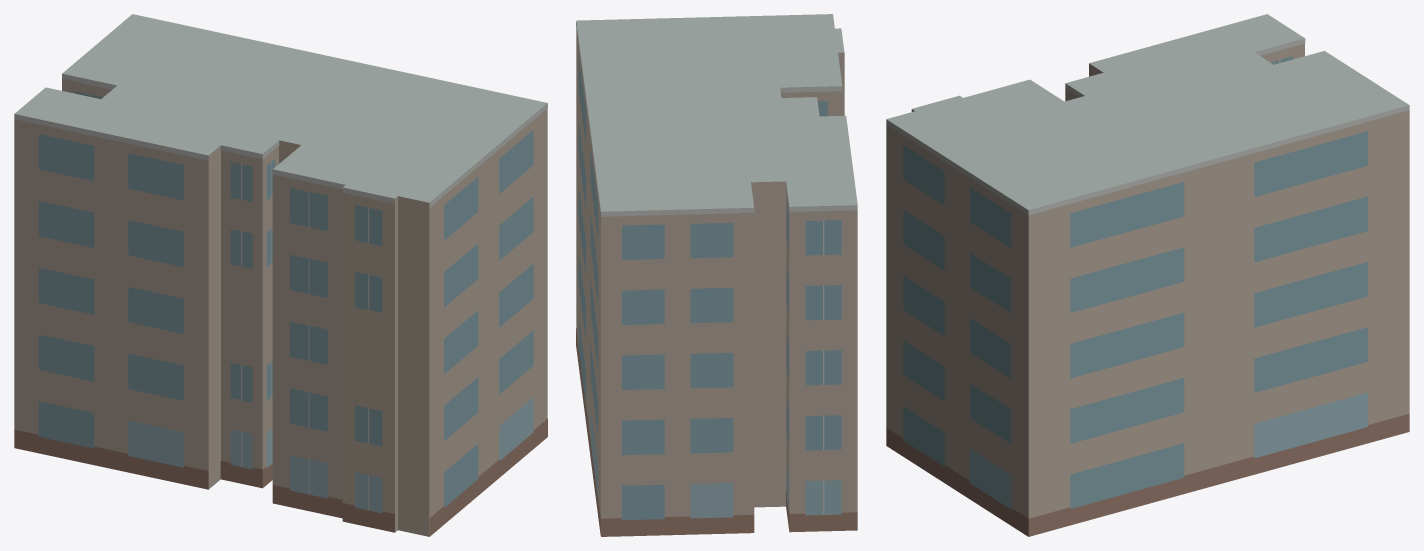
The model's file is survey-upis-32997263.glb.
3 renders of one model, left to right at view 1: azimuth 30°, elevation 25°; view 2: azimuth 150°, elevation 25°; view 3: azimuth 270°, elevation 25°, orthographic. The views are drawn at different scales.
Parts seen in each view (by area): view 1: survey-upis-32997263.tmp; view 2: survey-upis-32997263.tmp; view 3: survey-upis-32997263.tmp.
Part boxes in pixels (x1=…): survey-upis-32997263.tmp: x1=14, y1=14, x2=547, y2=536; survey-upis-32997263.tmp: x1=576, y1=14, x2=857, y2=536; survey-upis-32997263.tmp: x1=886, y1=14, x2=1409, y2=536.
Bounding box in the file's own units: 20.24 × 15.7 × 22.81.
